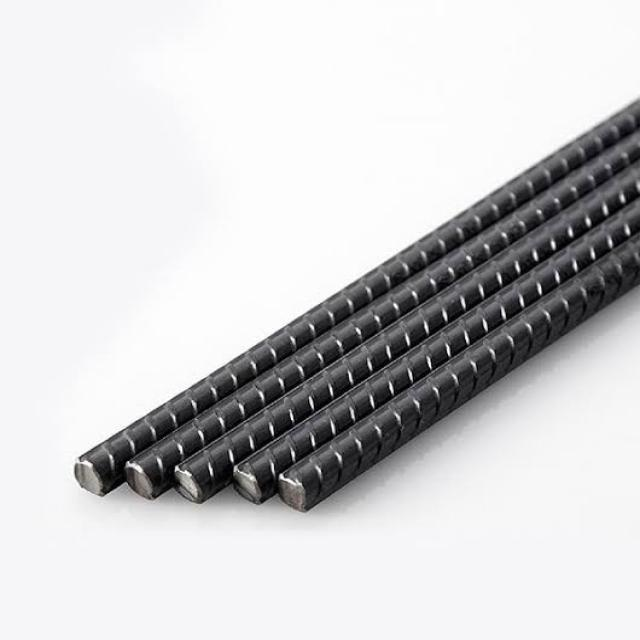Rebar: (224, 462, 271, 508), (169, 464, 215, 508), (63, 461, 109, 502), (278, 469, 319, 515), (128, 458, 165, 506)
